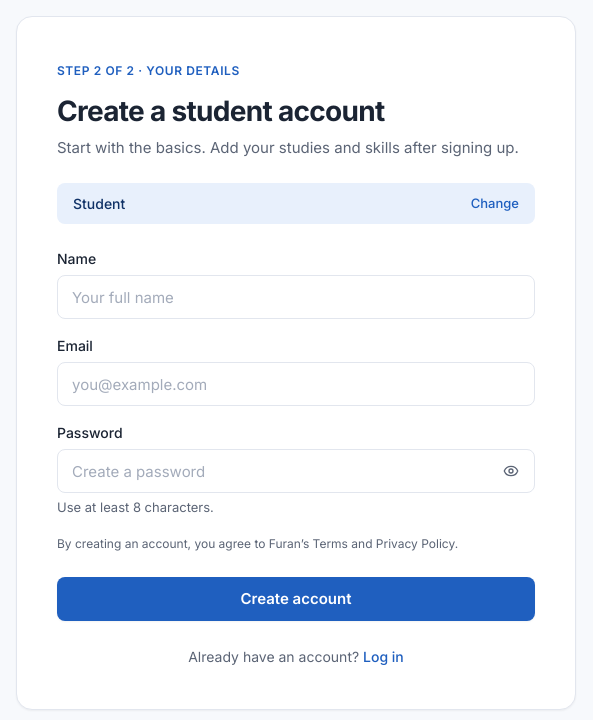
Test case: Authentication Screens Suite › Register Page › allows changing role from Step 2 back to Step 1
Expected: the heading "Create a student account" is shown, [57,94,384,128]
Click the button "Change" at [495, 204], box [471,194,519,213]
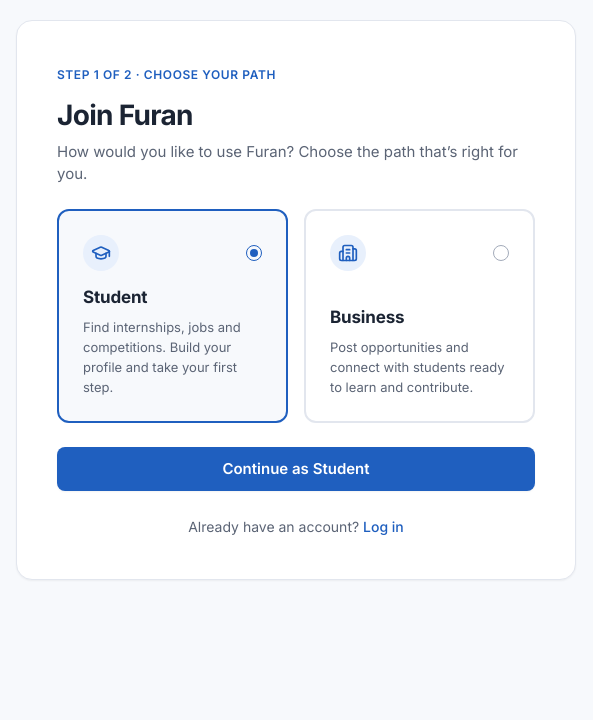
Expected: the text "STEP 1 OF 2 · CHOOSE YOUR PATH" is shown, [57,67,276,82]
